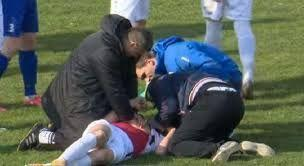Fall-Detected: (6, 91, 171, 164)
